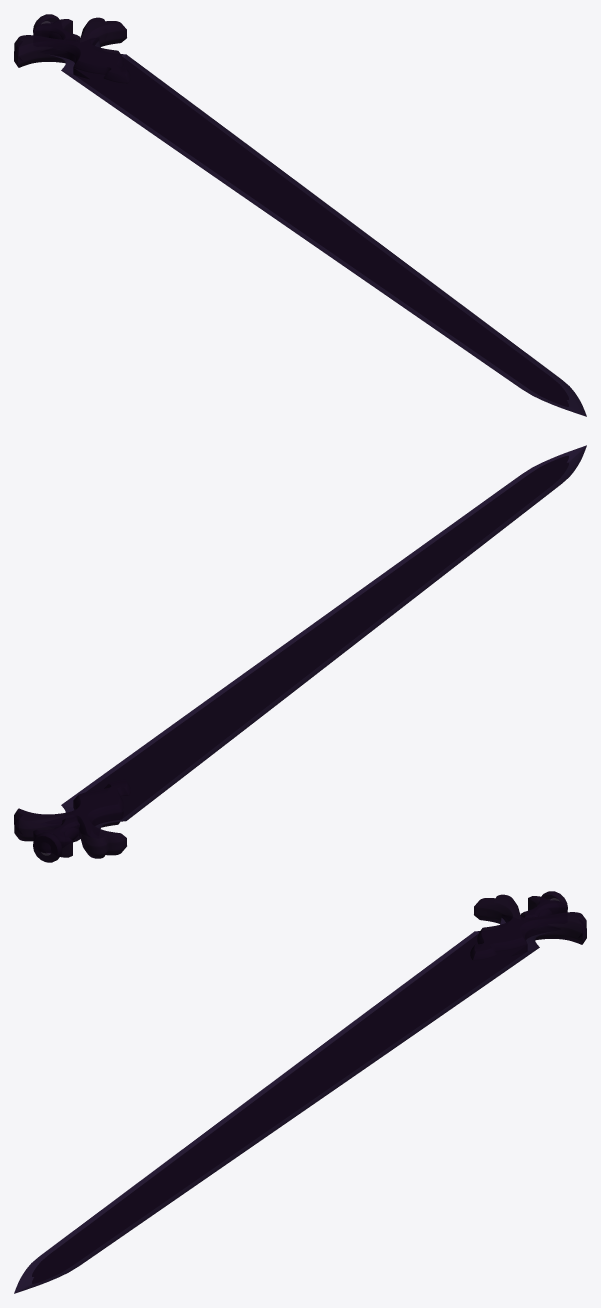
The model's file is sword.glb.
3 views of the same model, one above another, from view 1: azimuth 30°, elevation 25°; view 2: azimuth 150°, elevation 25°; view 3: azimuth 330°, elevation 25° (orthographic).
Parts seen in each view (by area): view 1: Blade_2, Hilt_5; view 2: Blade_2, Hilt_5; view 3: Blade_2, Hilt_5.
Part boxes in pixels (x1=…): Blade_2: x1=47, y1=41, x2=586, y2=416; Hilt_5: x1=14, y1=14, x2=130, y2=83; Blade_2: x1=61, y1=445, x2=586, y2=828; Hilt_5: x1=14, y1=779, x2=130, y2=862; Blade_2: x1=14, y1=918, x2=553, y2=1293; Hilt_5: x1=470, y1=891, x2=586, y2=960.
Bounding box in the file's own units: 0.579 × 0.1455 × 4.95.
